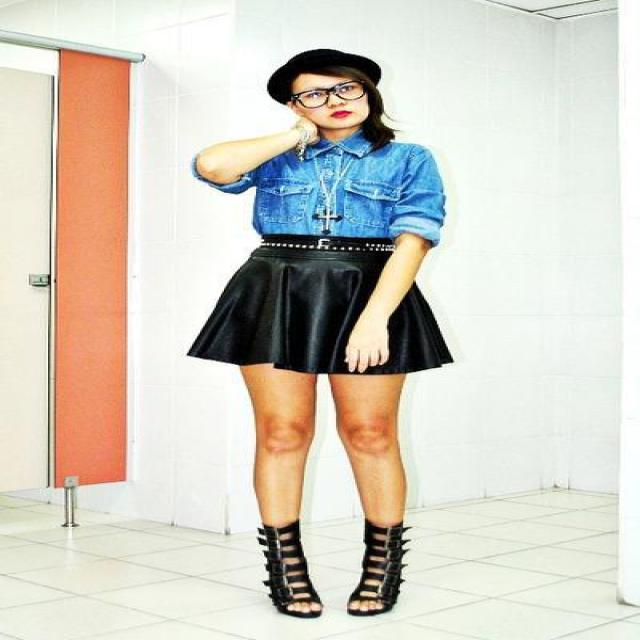shirt: (211, 125, 445, 242)
shoe: (258, 518, 411, 618)
skirt: (187, 246, 453, 382)
